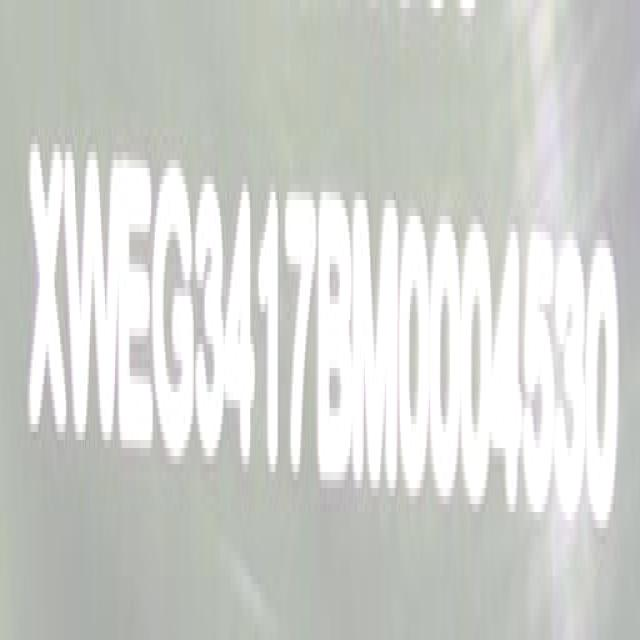0: (588, 230, 623, 533), (399, 200, 433, 507), (458, 208, 491, 520), (429, 207, 462, 512)
1: (258, 174, 282, 485)
3: (555, 228, 589, 530), (197, 164, 230, 474)
4: (490, 220, 526, 526), (225, 174, 256, 482)
5: (522, 219, 557, 532)
7: (285, 180, 319, 494)
B: (319, 186, 353, 492)
E: (117, 154, 158, 466)
G: (153, 152, 197, 466)
M: (356, 187, 402, 501)
W: (66, 138, 120, 460)
X: (27, 132, 71, 455)
